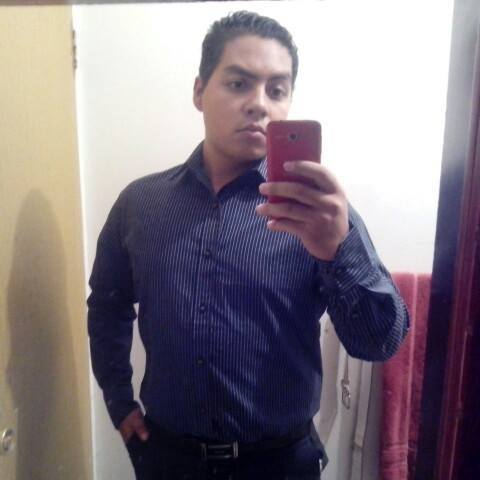Yoshi: (168, 14, 325, 218)
